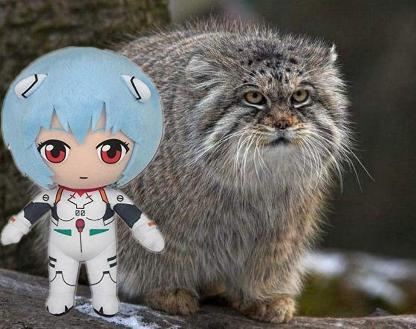rei-plush: (0, 34, 170, 321)
